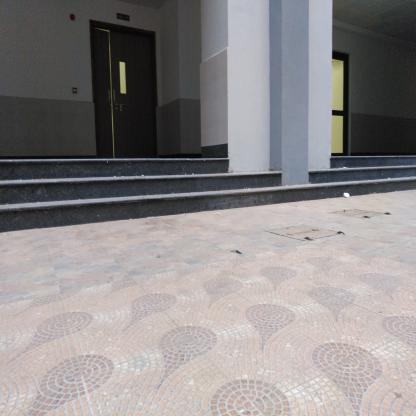stairs: (3, 156, 228, 217)
